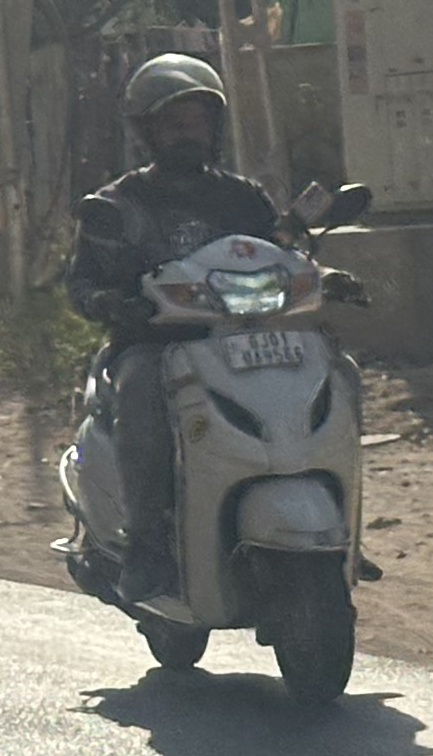BikeWithRider: (37, 48, 390, 710)
Helmet: (111, 47, 238, 190)
